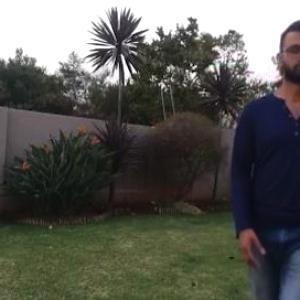follow: (227, 42, 299, 299)
